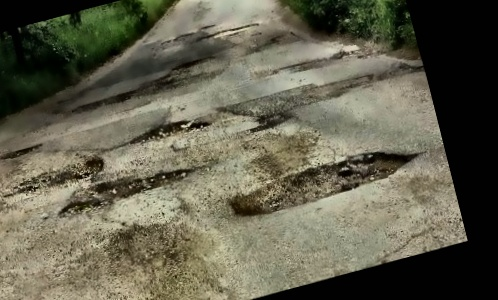pothole: (221, 136, 424, 226), (52, 156, 198, 222), (12, 155, 107, 200), (126, 112, 211, 148), (195, 20, 260, 43), (245, 107, 294, 137), (168, 53, 217, 74), (0, 140, 43, 163)
